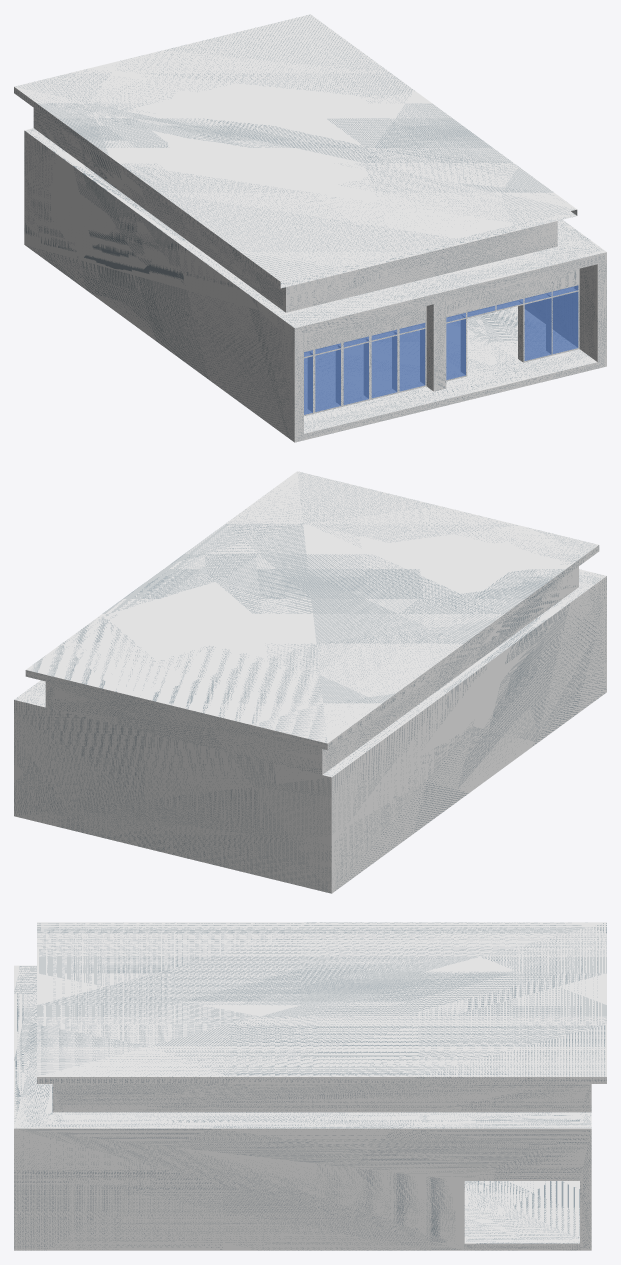
The model's file is galeri.fbx.
3 renders of one model, top to bottom at view 1: azimuth 30°, elevation 25°; view 2: azimuth 150°, elevation 25°; view 3: azimuth 270°, elevation 25°, orthographic. The views are drawn at different scales.
Visible parts, largest first — view 1: Model; view 2: Model; view 3: Model.
Part boxes in pixels (box(x1,y1,x2,y2)): Model: box(14, 14, 606, 442); Model: box(14, 471, 606, 893); Model: box(14, 922, 606, 1250).
Size of the model in its own units: 10.1 by 4.7 by 15.4.
